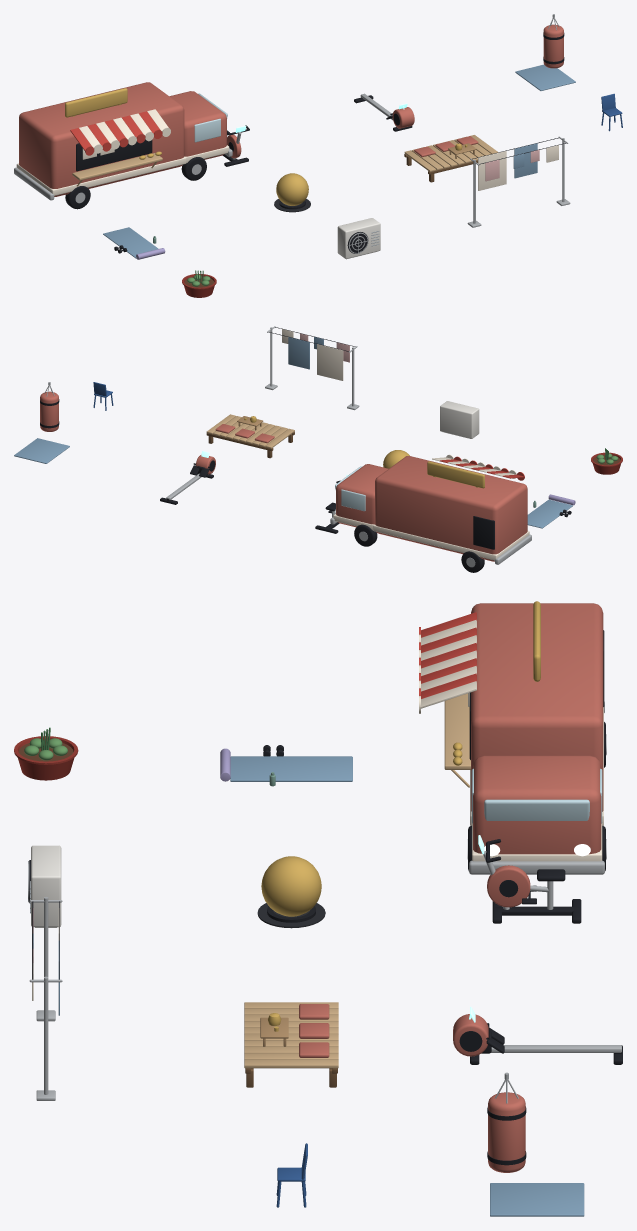
File: renewal_extra_set.fbx
The picture shows the model from 3 angles, top to bottom: view 1: azimuth 30°, elevation 25°; view 2: azimuth 150°, elevation 25°; view 3: azimuth 270°, elevation 25°; orthographic projection. The views are drawn at different scales.
Visible parts, largest first — view 1: FoodTruck_Body, FoodTruck_AwningA, FoodTruck_AwningB, Pyeongsang_Deck, FoodTruck_Stripe, AcUnit_Body, FoodTruck_Window, FoodTruck_Sign, ClothesLine_White, GymSandbag_Mat, GymBall_Ball, FoodTruck_Counter (+11 smaller); view 2: FoodTruck_Body, AcUnit_Body, Pyeongsang_Deck, FoodTruck_Stripe, ClothesLine_White, FoodTruck_Sign, GymSandbag_Mat, GymMat_Mat, ClothesLine_Blue, GymSandbag_Bag, FoodTruck_Wheels, FoodTruck_Window (+7 smaller); view 3: FoodTruck_Body, Pyeongsang_Deck, GymSandbag_Mat, GymMat_Mat, GymBall_Ball, GymSandbag_Bag, FoodTruck_Glass, FoodTruck_AwningB, FoodTruck_AwningA, AcUnit_Body, FoodTruck_Counter, ClothesLine_Poles (+8 smaller).
Boxes of the visible parts, box(x1,y1,x2,y2) form: FoodTruck_Body: box(19, 82, 226, 196); FoodTruck_AwningA: box(70, 111, 162, 155); FoodTruck_AwningB: box(79, 109, 170, 153); Pyeongsang_Deck: box(404, 135, 497, 171); FoodTruck_Stripe: box(16, 145, 229, 195); AcUnit_Body: box(337, 218, 380, 259); FoodTruck_Window: box(76, 139, 152, 171); FoodTruck_Sign: box(65, 88, 127, 117); ClothesLine_White: box(478, 145, 558, 190); GymSandbag_Mat: box(515, 64, 575, 90); GymBall_Ball: box(276, 173, 308, 205); FoodTruck_Counter: box(72, 153, 162, 186); FoodTruck_Body: box(336, 456, 527, 561); AcUnit_Body: box(440, 401, 479, 438); Pyeongsang_Deck: box(206, 414, 294, 448); FoodTruck_Stripe: box(333, 514, 529, 560); ClothesLine_White: box(282, 329, 343, 380); FoodTruck_Sign: box(427, 461, 484, 488); GymSandbag_Mat: box(14, 438, 69, 463); GymMat_Mat: box(527, 499, 572, 528); ClothesLine_Blue: box(288, 337, 323, 369); GymSandbag_Bag: box(40, 391, 58, 431); FoodTruck_Wheels: box(354, 524, 484, 572); FoodTruck_Window: box(473, 516, 494, 549); FoodTruck_Body: box(471, 603, 603, 854); Pyeongsang_Deck: box(244, 1002, 338, 1068); GymSandbag_Mat: box(490, 1183, 584, 1216); GymMat_Mat: box(230, 756, 352, 781); GymBall_Ball: box(261, 856, 321, 916); GymSandbag_Bag: box(488, 1092, 525, 1172); FoodTruck_Glass: box(471, 768, 602, 823); FoodTruck_AwningB: box(419, 620, 476, 713); FoodTruck_AwningA: box(419, 612, 476, 698); AcUnit_Body: box(31, 845, 61, 927); FoodTruck_Counter: box(444, 693, 470, 787); ClothesLine_Poles: box(29, 897, 62, 1100).
Size of the model in its own units: 59.85 by 9.94 by 32.25.
